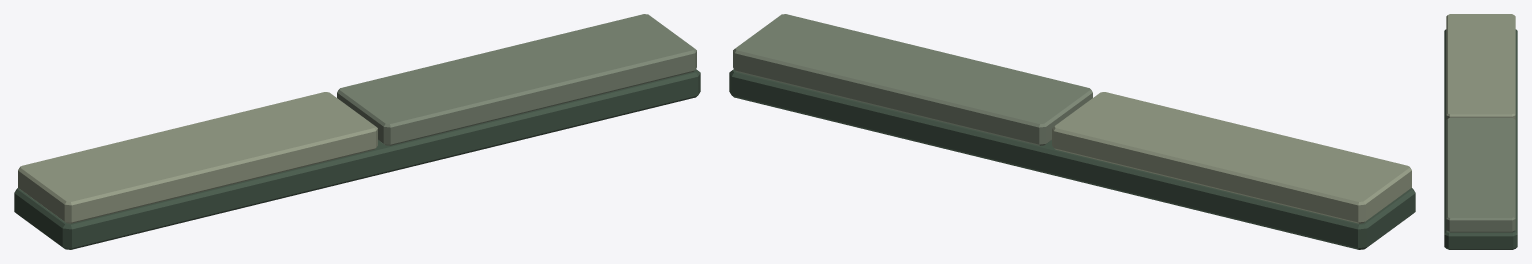
File: floor-border.glb
3 views of the same model, side by side, from view 1: azimuth 30°, elevation 25°; view 2: azimuth 150°, elevation 25°; view 3: azimuth 270°, elevation 25° (orthographic). The views are drawn at different scales.
Visible parts, largest first — view 1: floor-border__body; view 2: floor-border__body; view 3: floor-border__body.
Boxes of the visible parts, bbox=[...] form: floor-border__body: bbox=[14, 14, 700, 249]; floor-border__body: bbox=[729, 14, 1415, 249]; floor-border__body: bbox=[1444, 14, 1517, 249].
Bounding box in the file's own units: 2 × 0.14 × 0.3.
